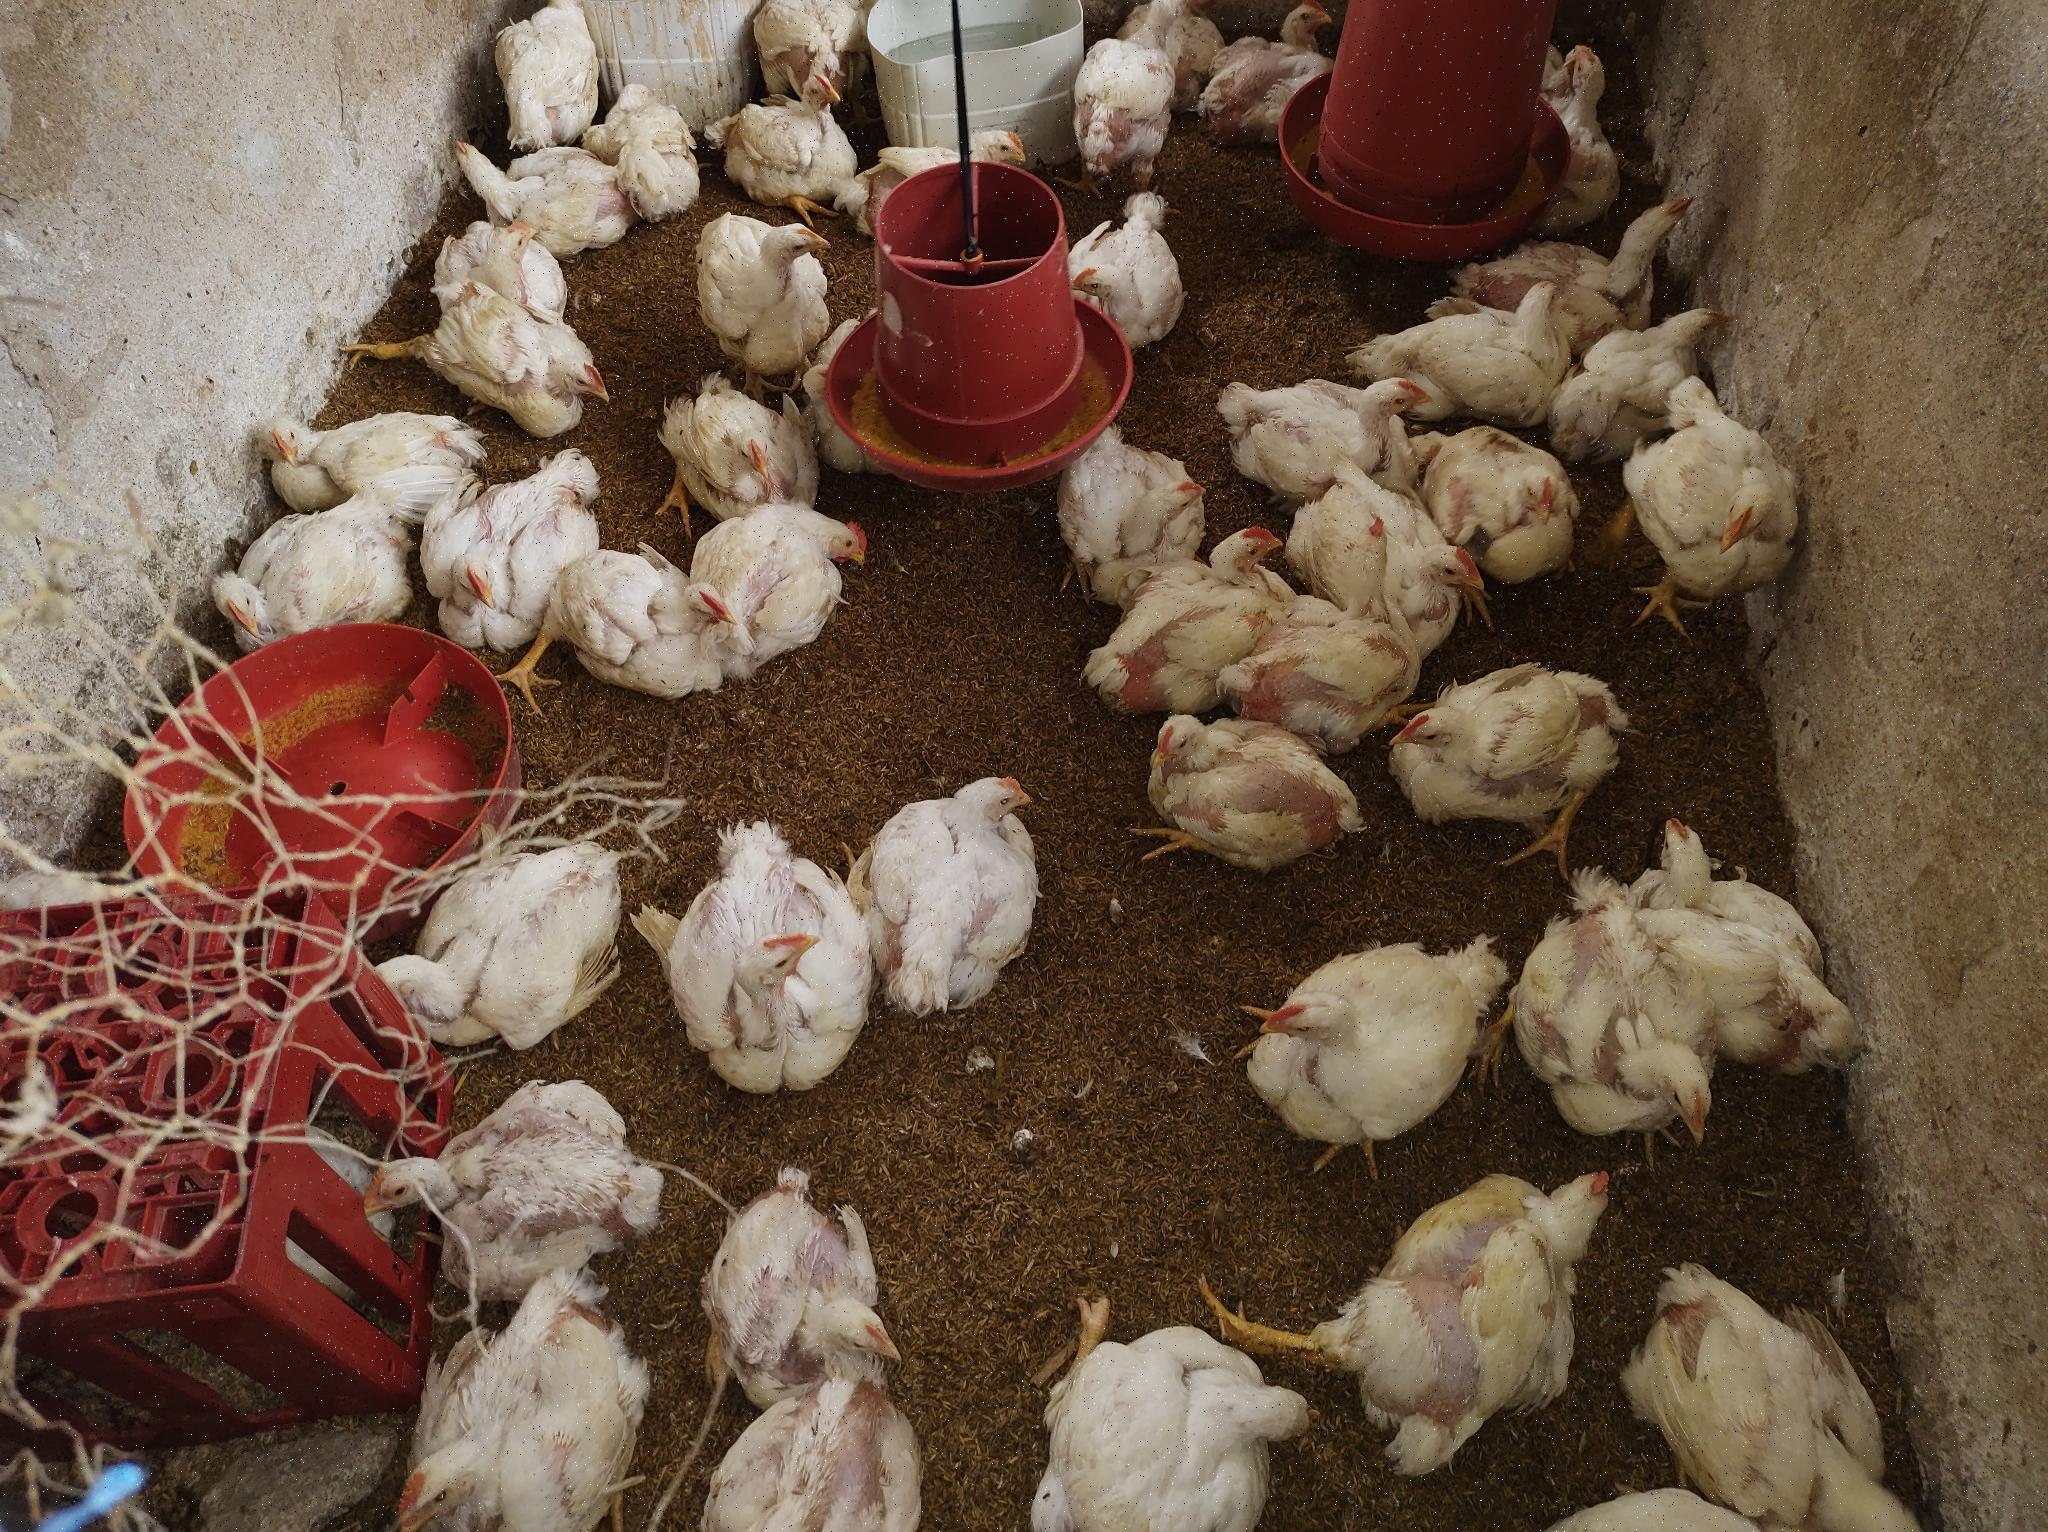Pollos: (1308, 1154, 1643, 1463), (1636, 1244, 1982, 1532), (367, 1073, 701, 1300), (1015, 1278, 1305, 1532), (1651, 821, 1902, 1102), (669, 795, 886, 1101), (386, 1275, 645, 1530), (1376, 653, 1643, 879), (1219, 938, 1504, 1146), (368, 843, 640, 1056), (845, 774, 1068, 1015), (1515, 879, 1710, 1155), (706, 1175, 917, 1392), (1620, 401, 1800, 639), (1133, 697, 1358, 883), (697, 1379, 941, 1532), (1271, 520, 1427, 735), (359, 301, 607, 431), (1195, 352, 1433, 478), (217, 505, 393, 674), (1298, 476, 1491, 629), (249, 389, 475, 518), (441, 468, 594, 649), (553, 555, 737, 698), (1367, 283, 1564, 414), (1059, 418, 1218, 578), (652, 373, 817, 523), (1430, 431, 1588, 586), (681, 206, 829, 365), (1117, 528, 1277, 674), (1194, 2, 1345, 137), (1556, 171, 1697, 307), (738, 504, 869, 652), (446, 137, 629, 241), (1078, 2, 1184, 174), (1598, 294, 1763, 397), (1071, 198, 1186, 343), (492, 2, 600, 142), (875, 122, 1039, 214), (730, 84, 851, 201), (434, 216, 561, 320), (607, 77, 697, 217), (756, 2, 883, 71), (1556, 55, 1618, 179)
